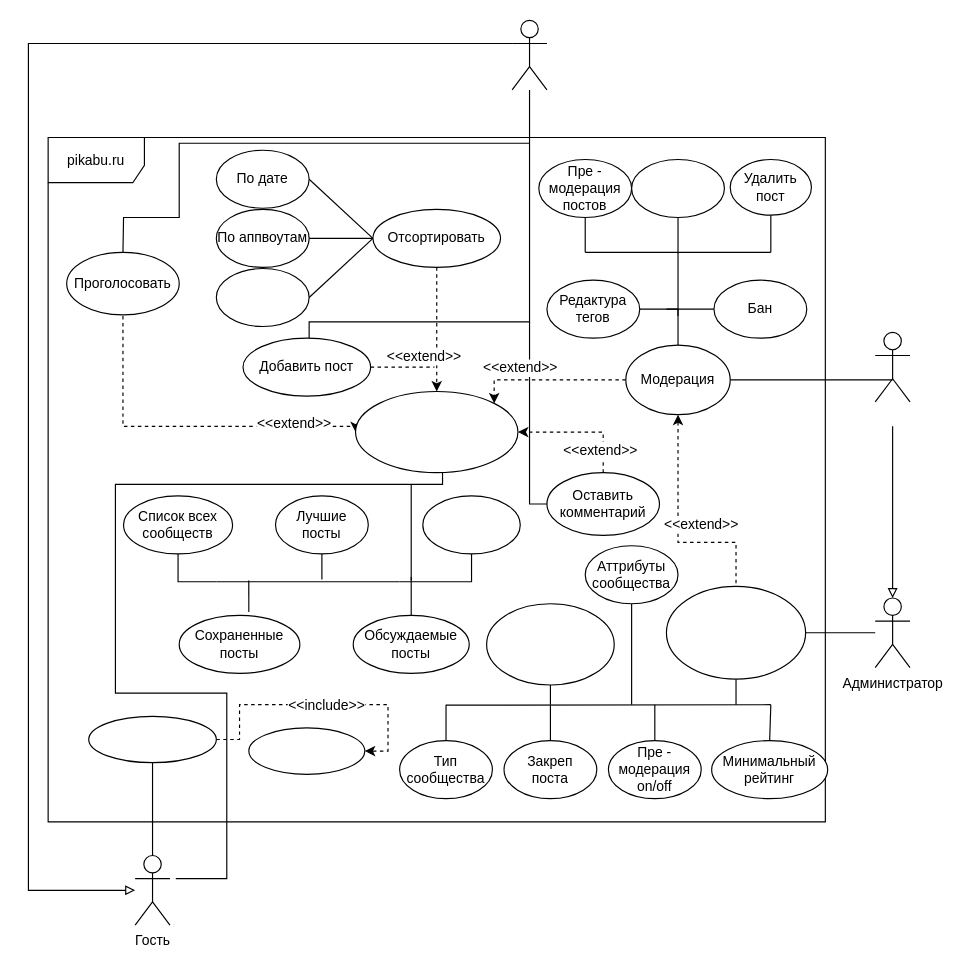
Some shapes in this 963 by 970 pixel diagram are drawn without their labels. Each missing label, with the centre of its shape:
"Вход в систему" goes at pixel 152 739.
"Контроль" goes at pixel 735 632.
"Контроль комментов" goes at pixel 677 187.
"Модератор" goes at pixel 892 366.
"Назначение доверенных пользователей" goes at pixel 549 644.
"По тегам" goes at pixel 262 297.
"Пользователь" goes at pixel 529 54.
"Просмотр ленты" goes at pixel 436 431.
"Регистрация" goes at pixel 306 750.
"Свежие посты" goes at pixel 471 524.
